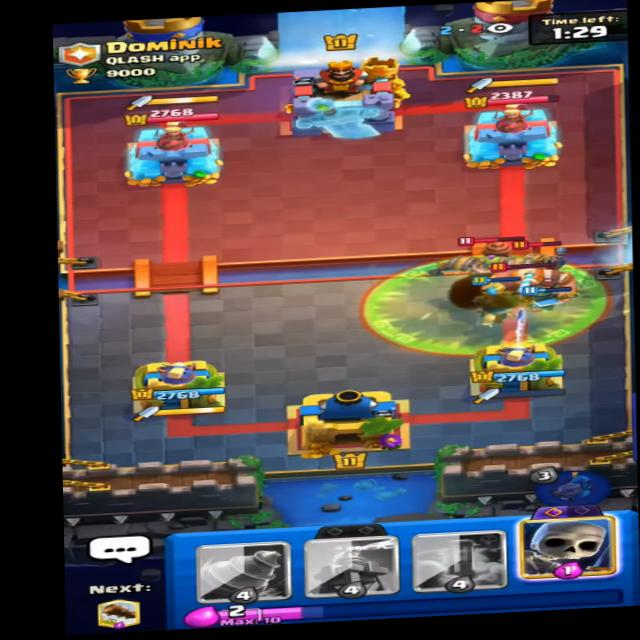giant: (471, 239, 582, 310)
goblin-curse: (357, 251, 609, 360)
goblin-machine: (439, 235, 533, 288)
prince: (499, 234, 571, 283)
